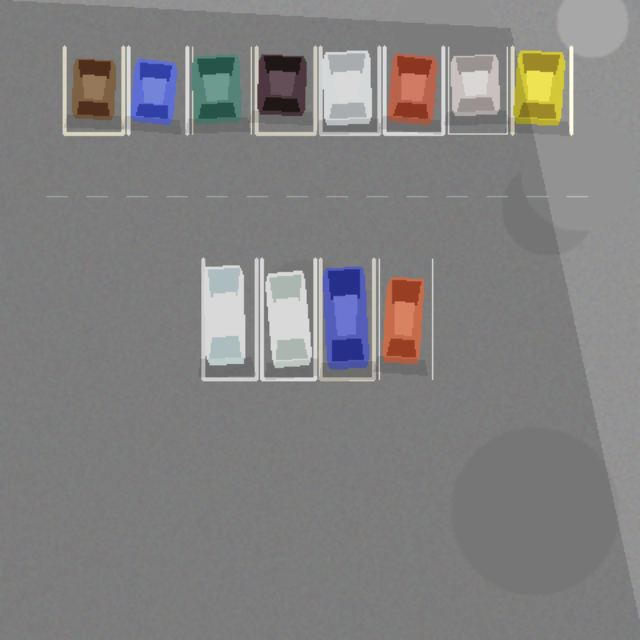space-occupied: (261, 259, 315, 379), (203, 259, 256, 379), (320, 259, 373, 379), (379, 259, 432, 379), (64, 47, 123, 133), (128, 47, 187, 133), (192, 47, 251, 133), (256, 47, 315, 133), (320, 47, 379, 133), (384, 47, 443, 133), (448, 47, 507, 133), (512, 47, 571, 133)
